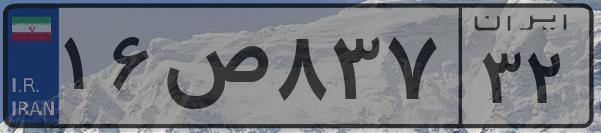1: (57, 26, 110, 100)
2: (525, 38, 570, 115)
3: (330, 28, 385, 110), (475, 38, 525, 113)
6: (110, 28, 158, 98)
7: (385, 28, 445, 110)
8: (270, 28, 330, 110)
ص: (158, 20, 270, 120)
